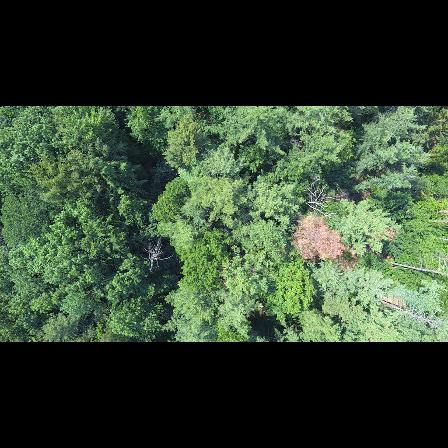Dead: (301, 178, 346, 219), (140, 234, 175, 274)
